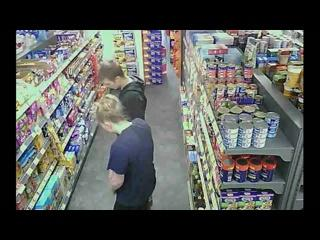Normal: (94, 94, 157, 210), (98, 60, 147, 120)
